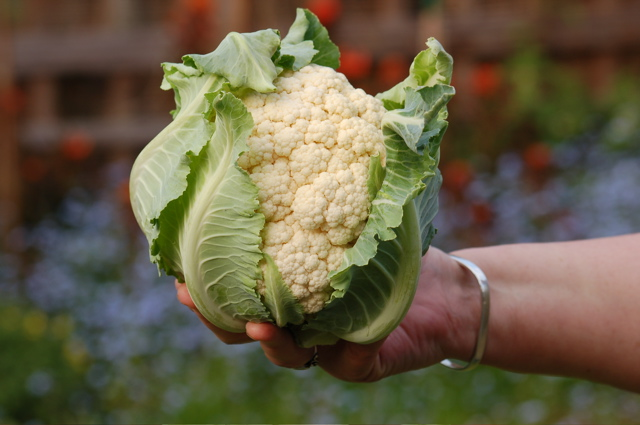cauliflower: (137, 6, 448, 342)
